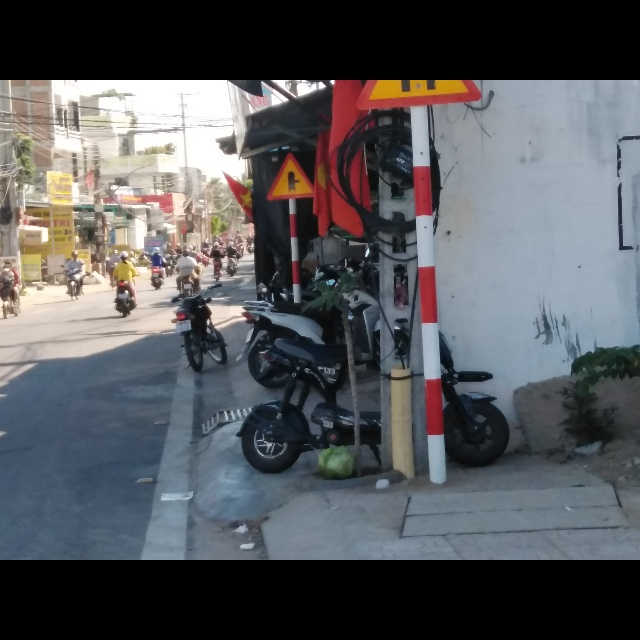Giao nhau với đường không ưu tiên: (264, 152, 315, 200)
